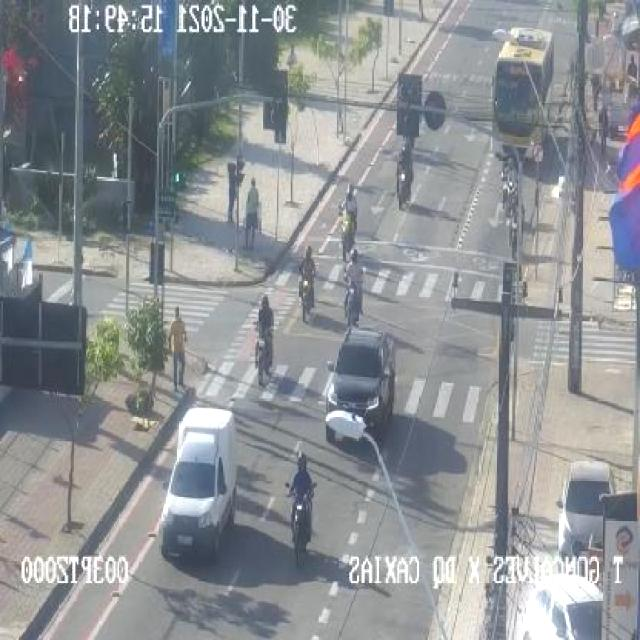Bus: (494, 24, 556, 166)
Car: (327, 325, 398, 449), (554, 461, 616, 566), (524, 571, 606, 640)
Cycle: (282, 480, 320, 567), (250, 319, 274, 385), (337, 205, 358, 262), (295, 267, 316, 323), (342, 274, 363, 327), (396, 161, 410, 210)
Van: (158, 408, 239, 564)
